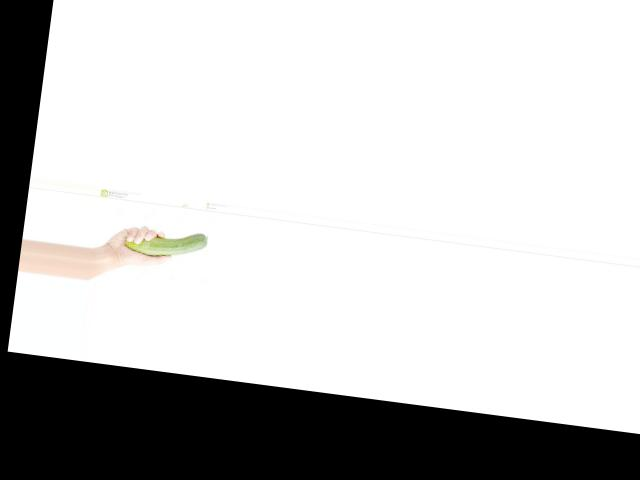cucumber: (124, 223, 209, 261)
